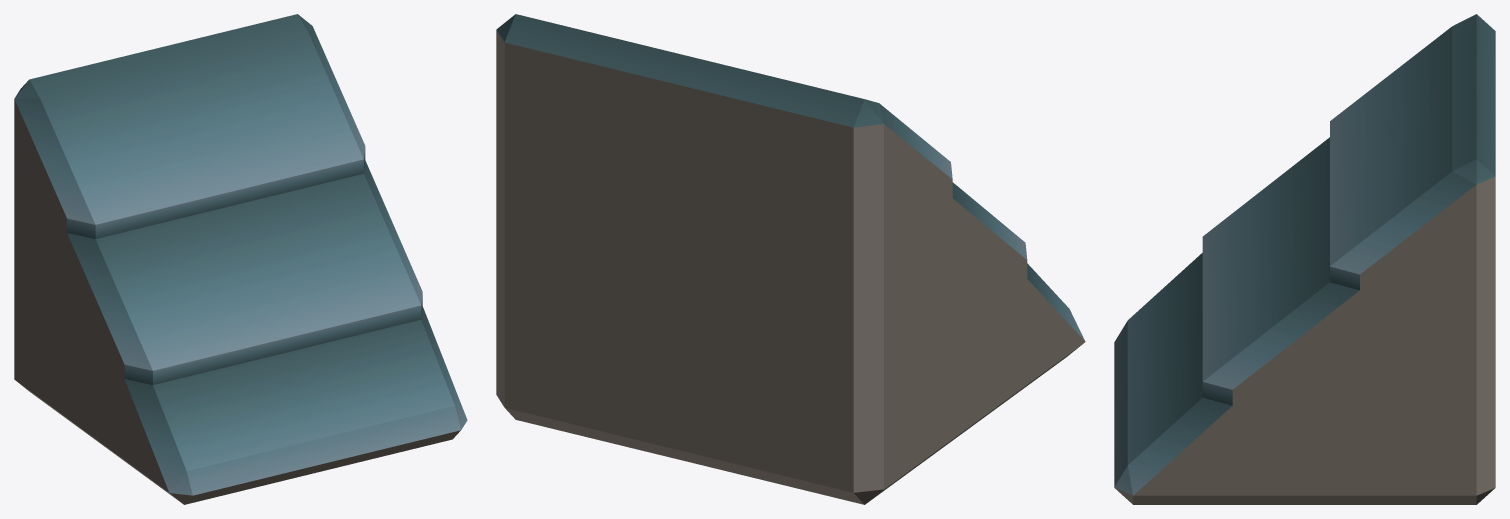
Rendered from m_kub_roofGrey.FBX.
3 views of the same model, side by side, from view 1: azimuth 30°, elevation 25°; view 2: azimuth 150°, elevation 25°; view 3: azimuth 270°, elevation 25° (orthographic). The views are drawn at different scales.
Parts seen in each view (by area): view 1: m_kub_roofGrey; view 2: m_kub_roofGrey; view 3: m_kub_roofGrey.
Part boxes in pixels (bbox=[...]): m_kub_roofGrey: bbox=[14, 14, 467, 504]; m_kub_roofGrey: bbox=[496, 14, 1085, 504]; m_kub_roofGrey: bbox=[1114, 14, 1495, 504].
Bounding box in the file's own units: 2 × 2 × 2.
